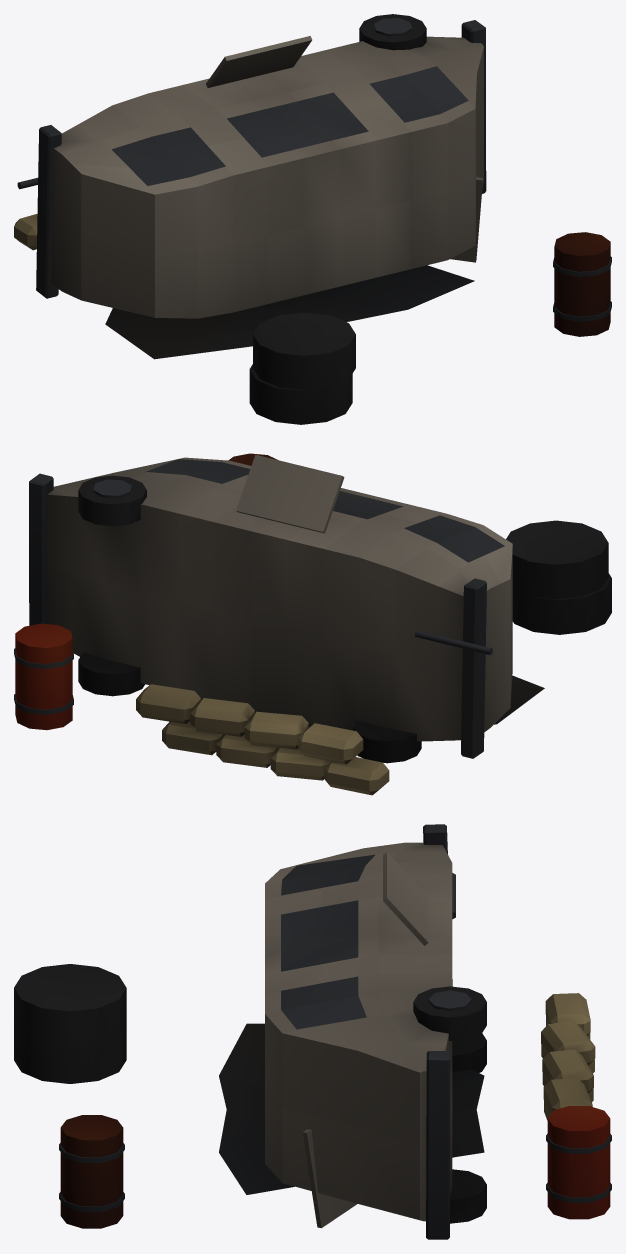
The model's file is rb_wreck_van.glb.
3 views of the same model, one above another, from view 1: azimuth 30°, elevation 25°; view 2: azimuth 150°, elevation 25°; view 3: azimuth 270°, elevation 25° (orthographic). The views are drawn at different scales.
Parts seen in each view (by area): view 1: paint, metal_dark, rubber, rust, canvas; view 2: paint, rubber, metal_dark, canvas, rust; view 3: paint, metal_dark, rubber, rust, canvas.
Boxes of the visible parts, <box> form: paint: <box>51,36,483,318</box>; metal_dark: <box>17,18,611,359</box>; rubber: <box>249,14,426,424</box>; rust: <box>554,232,610,336</box>; canvas: <box>14,213,37,250</box>; paint: <box>47,454,512,741</box>; rubber: <box>78,475,611,763</box>; metal_dark: <box>14,459,544,758</box>; canvas: <box>136,684,389,795</box>; rust: <box>15,453,278,730</box>; paint: <box>265,842,452,1228</box>; metal_dark: <box>59,824,611,1239</box>; rubber: <box>14,964,486,1223</box>; rust: <box>60,1106,610,1228</box>; canvas: <box>541,993,595,1120</box>.
Size of what is drawn, in the model's own units: 5.32 by 2.63 by 5.52.
